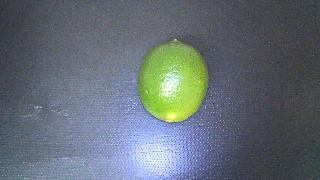EXPORTACION: (138, 39, 209, 122)
